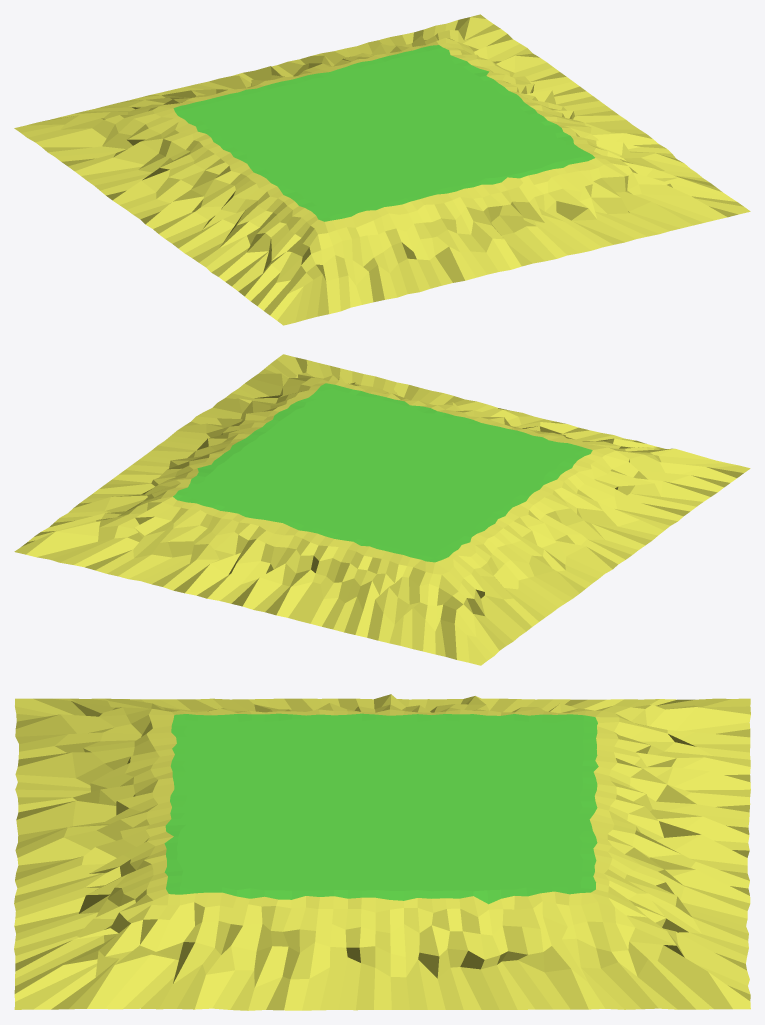
Rendered from Island.fbx.
3 views of the same model, one above another, from view 1: azimuth 30°, elevation 25°; view 2: azimuth 150°, elevation 25°; view 3: azimuth 270°, elevation 25° (orthographic). The views are drawn at different scales.
Visible parts, largest first — view 1: Island; view 2: Island; view 3: Island.
Part boxes in pixels (x1,y1,x2,y2): Island: (14, 14, 750, 325); Island: (14, 354, 750, 665); Island: (14, 694, 750, 1010).
Bounding box in the file's own units: 6462 × 483 × 6444.
